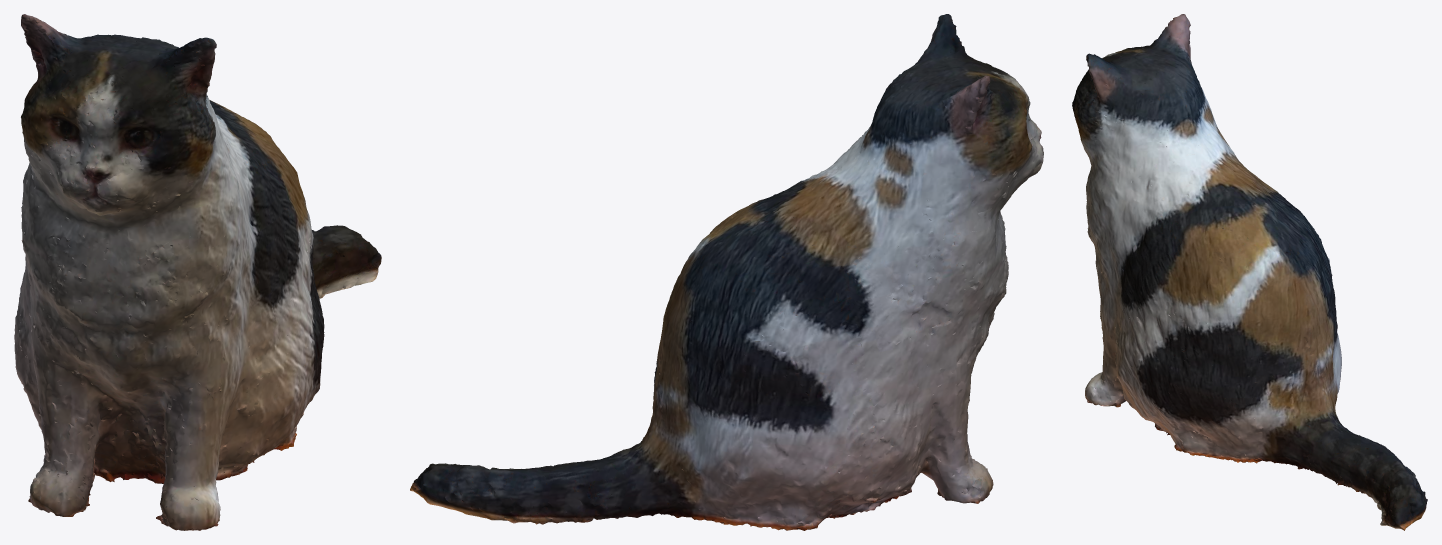
Rendered from Mittens.fbx.
The picture shows the model from 3 angles, left to right: view 1: azimuth 30°, elevation 25°; view 2: azimuth 150°, elevation 25°; view 3: azimuth 270°, elevation 25°; orthographic projection. The views are drawn at different scales.
Visible parts, largest first — view 1: Object_4; view 2: Object_4; view 3: Object_4.
Boxes of the visible parts, <box> form: Object_4: <box>14,14,381,530</box>; Object_4: <box>410,14,1043,530</box>; Object_4: <box>1072,14,1427,530</box>.
Size of the model in its own units: 33.74 by 30 by 27.95.
